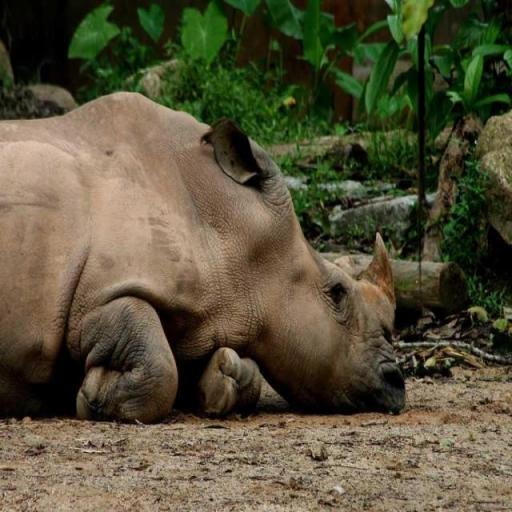Rhino: (0, 89, 407, 424)
